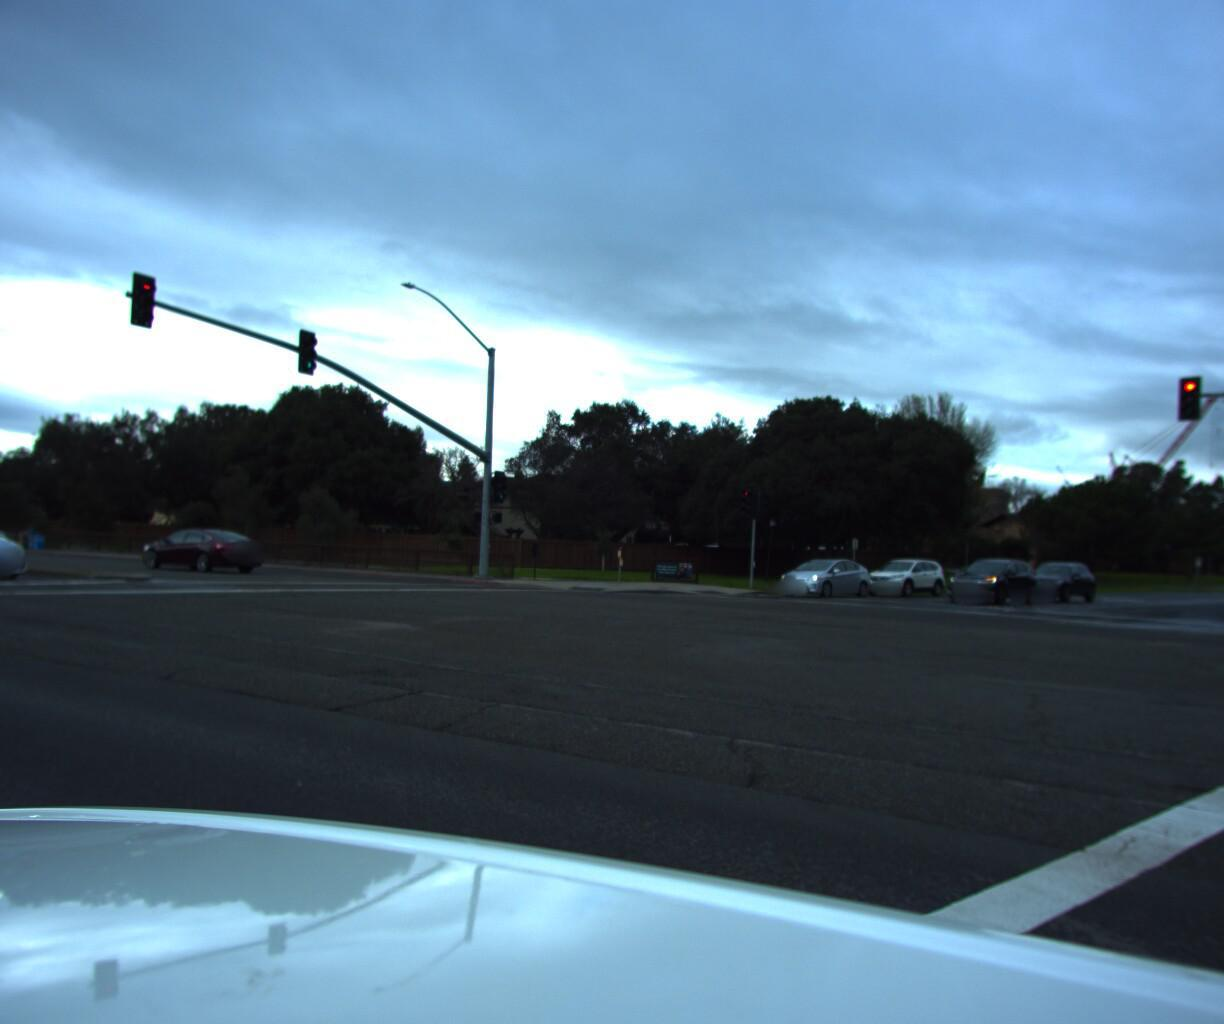car: (128, 517, 270, 571), (934, 548, 1041, 600), (767, 550, 874, 595), (852, 550, 950, 593), (1006, 553, 1099, 597), (0, 503, 38, 580)
